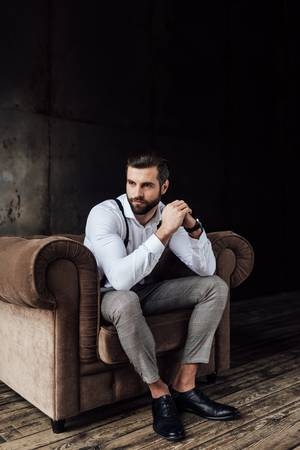F_shirt: (81, 195, 216, 292)
